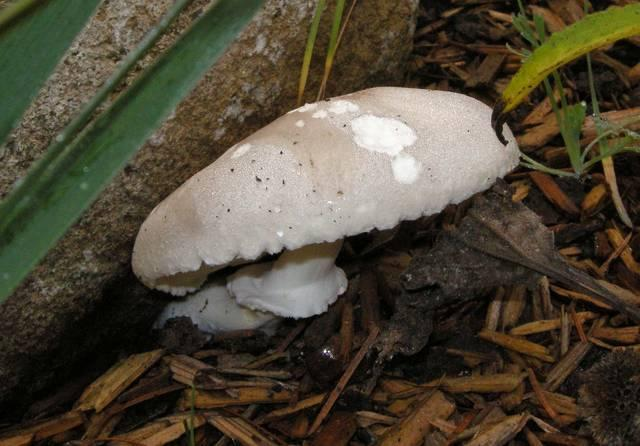poisonous_mushroom: (129, 84, 522, 338)
